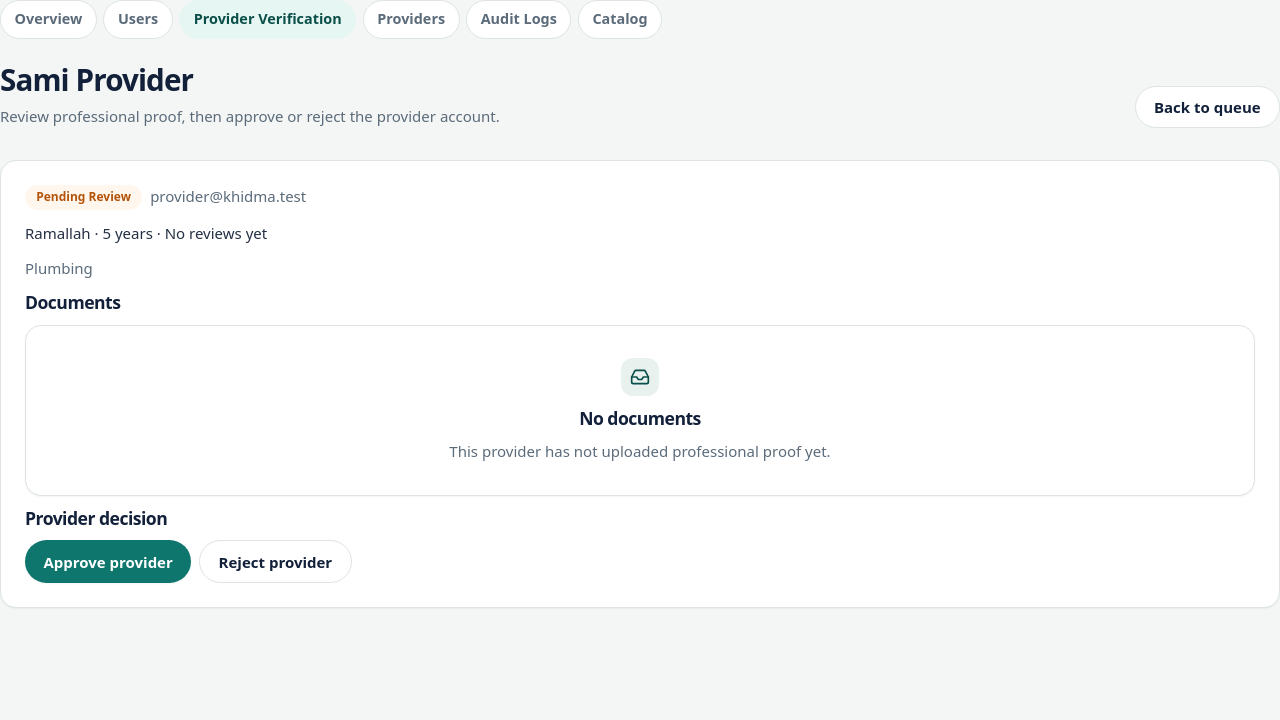
Test: AdminVerificationDetailPage › requires a reason before rejecting a provider
What coordinates should you click on to do the following:
click the button "Reject provider"
I would click on:
 (275, 562)
Its box is [199, 540, 352, 583].
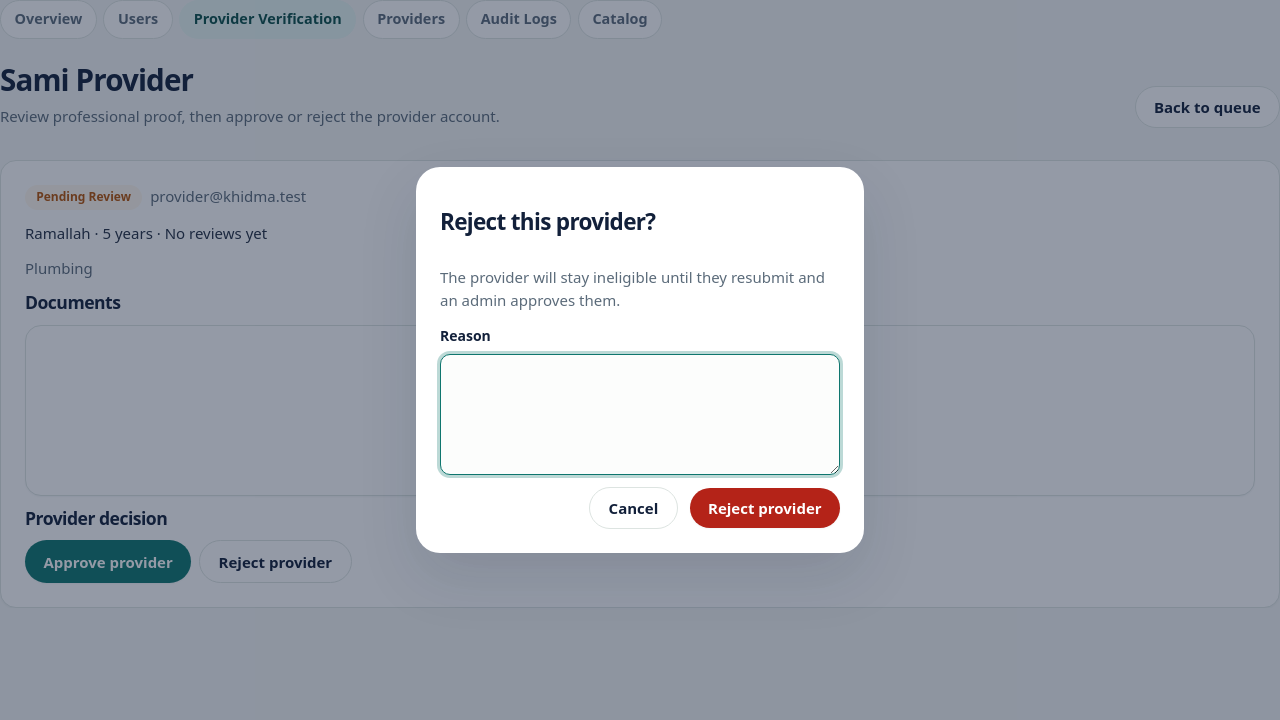
What coordinates should you click on to do the following:
click the button "Reject provider"
I would click on:
 (765, 508)
Its box is [690, 488, 840, 528].
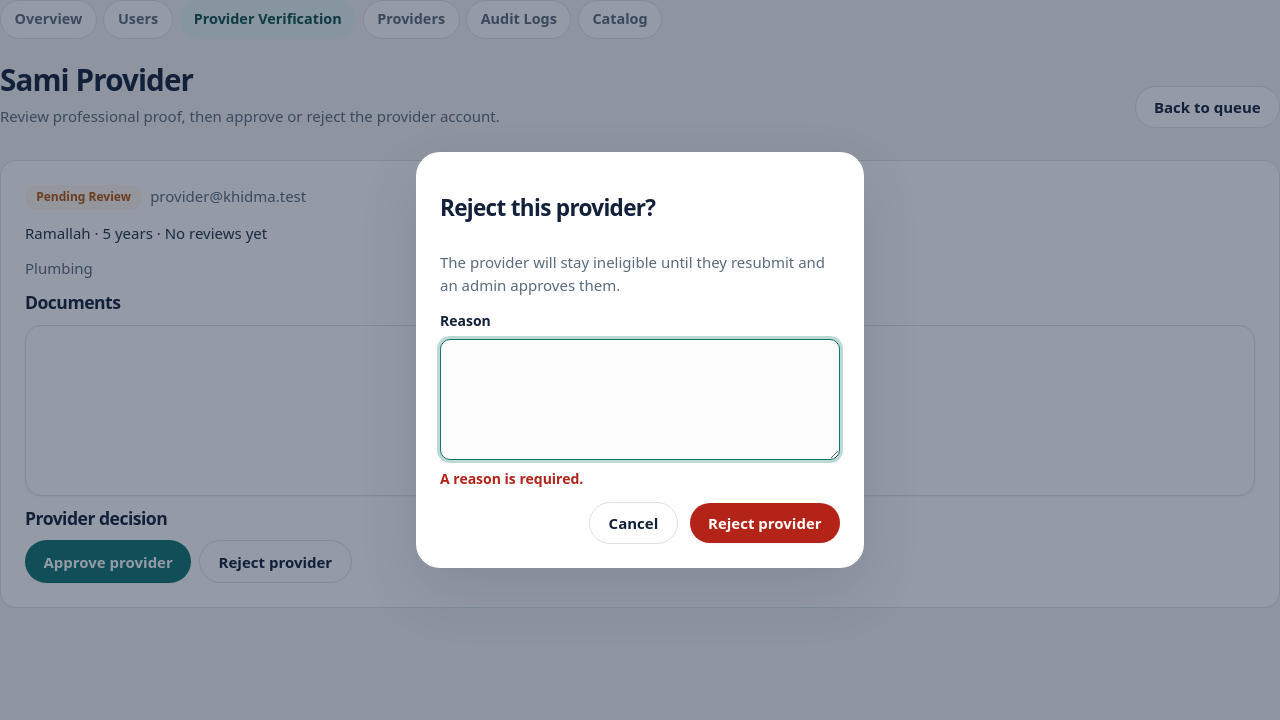
Result: the message reads "A reason is required." at [440, 469, 583, 488]
